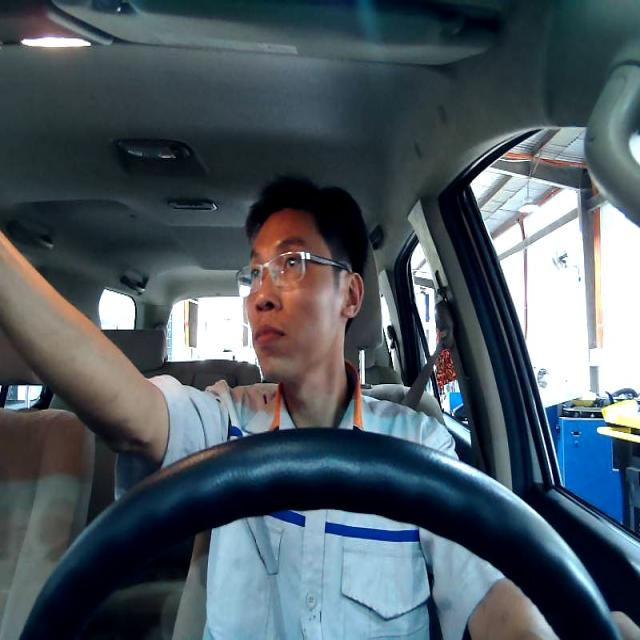focused: (244, 210, 365, 384)
